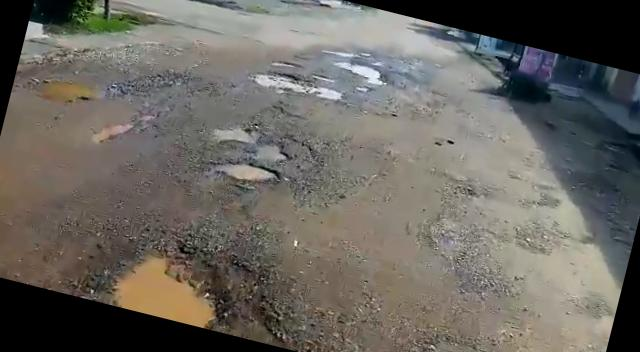pothole: (103, 238, 230, 331), (212, 118, 296, 166), (252, 63, 340, 104), (30, 70, 104, 114), (214, 154, 280, 191), (336, 56, 391, 84), (321, 44, 358, 61), (268, 56, 302, 70)
